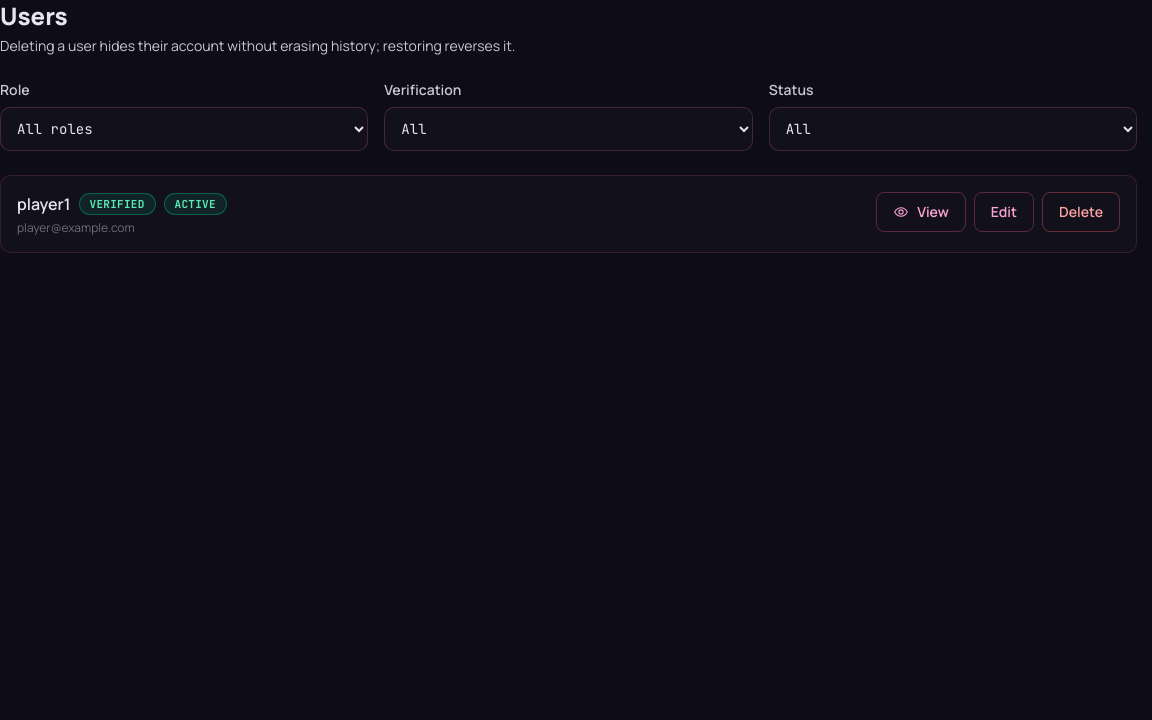
it: UsersPage › shows full user details in a dialog without exposing secret fields
The image size is (1152, 720).
Step 1. Click the button "View" → (921, 212), box [876,192,966,232]
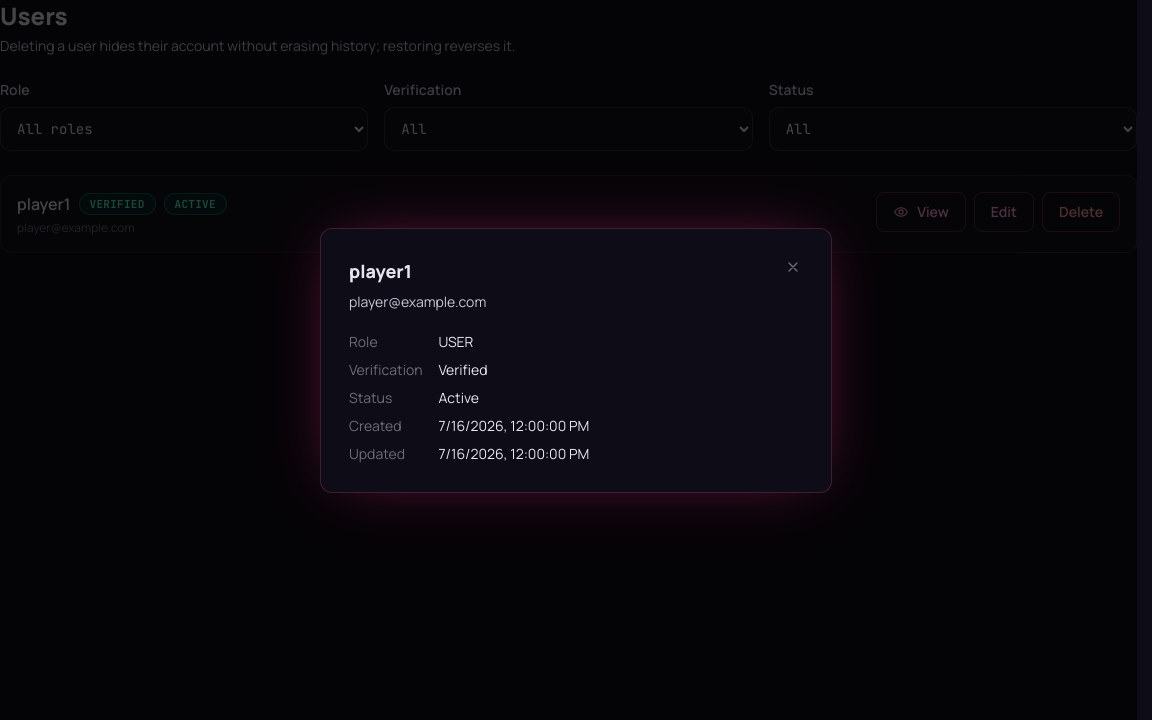
Now the text "USER" is shown, box [438,332,473,350]
